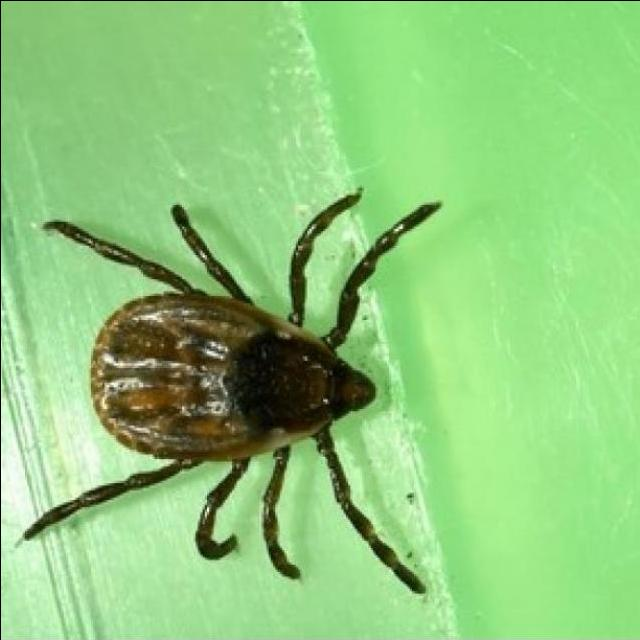Rhipicephalus Sanguineus-F: (22, 188, 443, 596)
